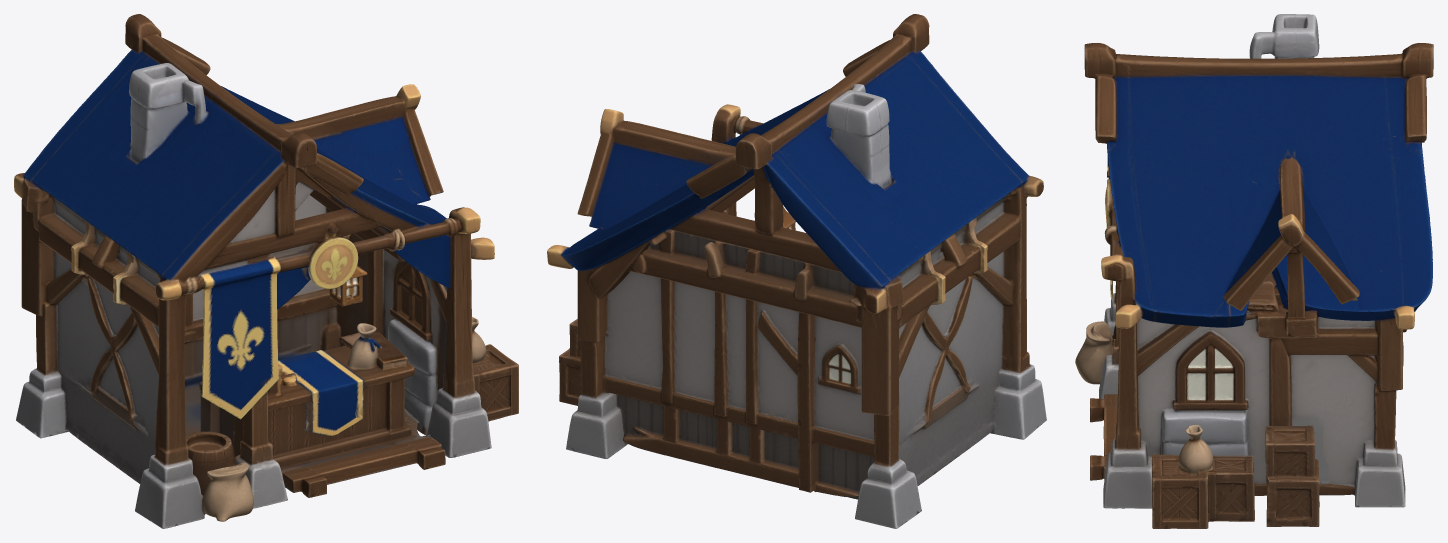
Rendered from bank_4_5_6.glb.
The picture shows the model from 3 angles, left to right: view 1: azimuth 30°, elevation 25°; view 2: azimuth 150°, elevation 25°; view 3: azimuth 270°, elevation 25°; orthographic projection.
Bounding box in the file's own units: 1.9 × 1.73 × 1.52.
1 material, 1 textured.
